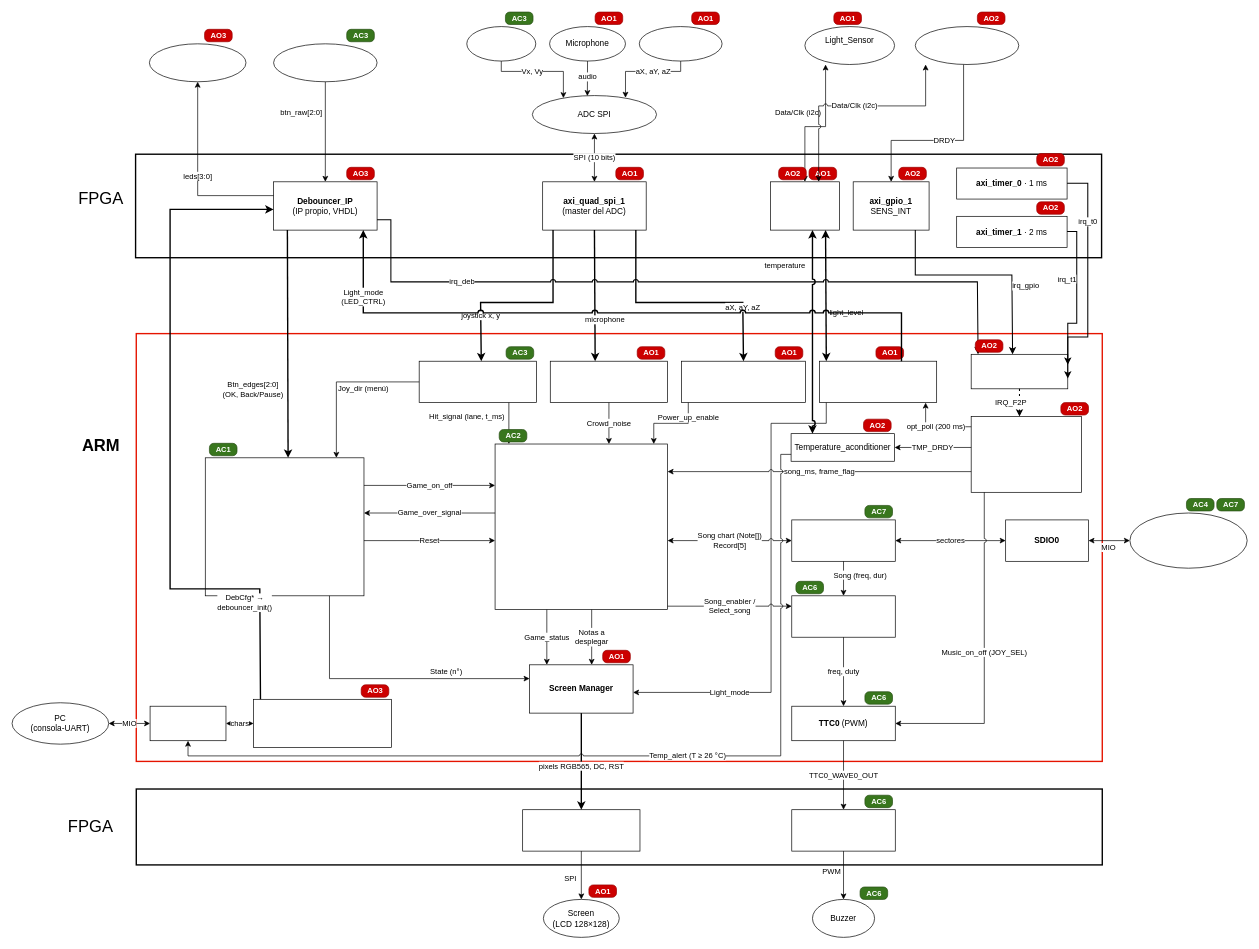
Image size: 1259x949. Some labels were removed from this diagram. Each missing label, with the centre of its shape:
Accelerometer: point (680, 43)
Accelerometer_aconditioner: point (743, 382)
axi_iic_0 I²C: point (804, 205)
axi_quad_spi_0 + axi_gpio_0: point (581, 830)
Btn (S1, S2, JOY_SEL): point (325, 62)
EMIO: point (843, 830)
Game Manager: point (581, 526)
GIC (Interrupt Controler): point (1019, 371)
ISR_handler: point (1026, 454)
Joystick: point (501, 43)
Joystick_aconditioner: point (477, 382)
LEDs (LD0–LD3): point (197, 62)
Light_aconditioner: point (878, 382)
Microphone_aconditioner: point (609, 382)
SD_Manager: point (843, 540)
SD_Memory: point (1188, 540)
Sound Manager: point (843, 616)
State_Machine: point (284, 526)
Temperature_Sensor: point (967, 45)
UART1: point (187, 723)
UART_config: point (322, 723)
